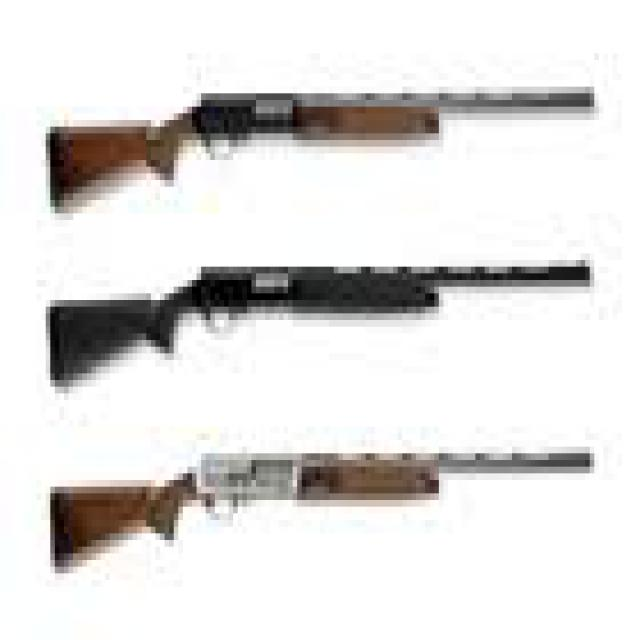long weapon: (29, 418, 615, 610), (43, 214, 611, 412), (41, 53, 608, 222)
